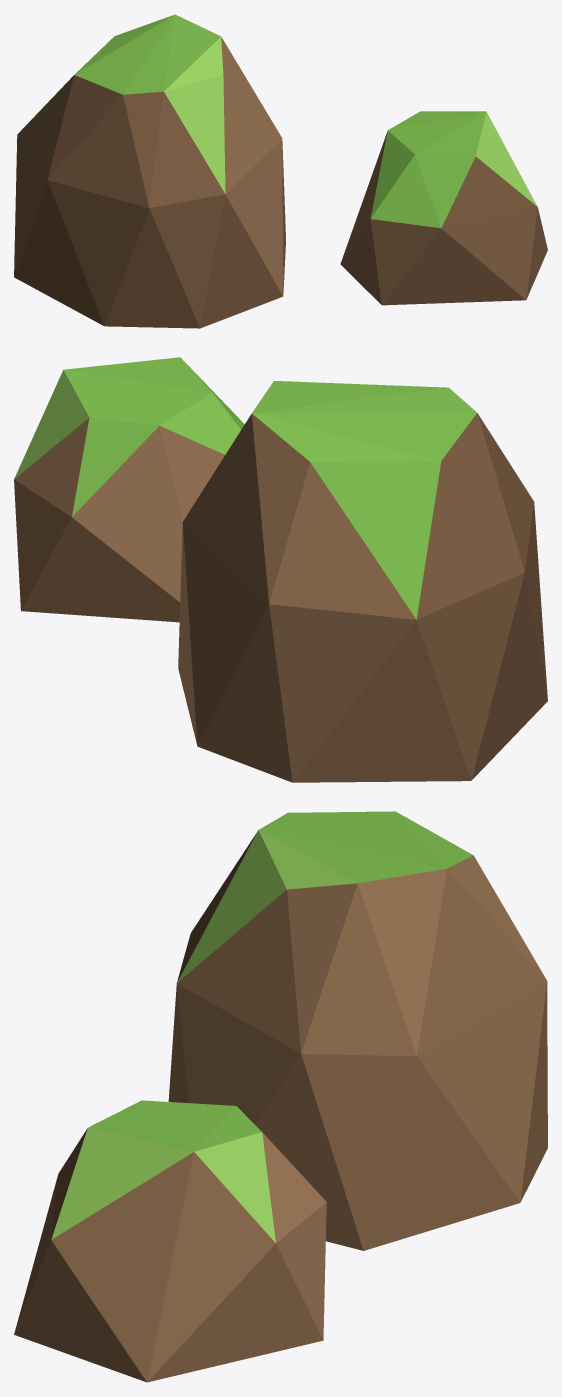
Rendered from rock_largeF.glb.
The picture shows the model from 3 angles, top to bottom: view 1: azimuth 30°, elevation 25°; view 2: azimuth 150°, elevation 25°; view 3: azimuth 270°, elevation 25°; orthographic projection. The views are drawn at different scales.
Visible parts, largest first — view 1: rock_largeF; view 2: rock_largeF; view 3: rock_largeF.
Boxes of the visible parts, box(x1,y1,x2,y2) form: rock_largeF: box(14, 14, 547, 328); rock_largeF: box(14, 357, 547, 782); rock_largeF: box(14, 811, 547, 1382).
Size of the model in its own units: 0.9582 by 0.478 by 0.7125.
Materials: 1 (1 with a texture image).
